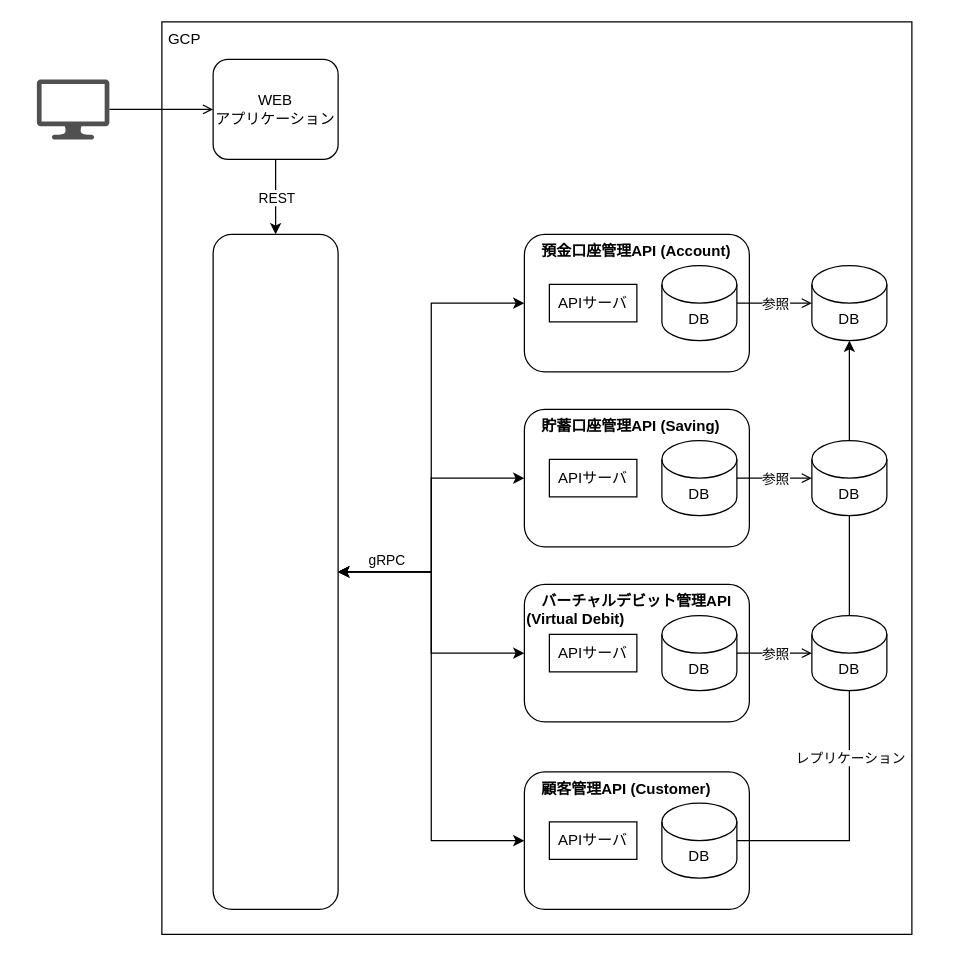
The diagram is 971 pixels wide and 956 high, and some of its shapes have lost their labels. The shapes that lost their labels are listed below. From the top down, each one's centre as x and y in pixels, then its label:
At point (72, 109): "クライアント (WEBブラウザ)".
At point (275, 571): "API Gateway".
